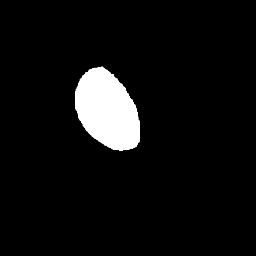mass: (74, 72, 139, 147)
